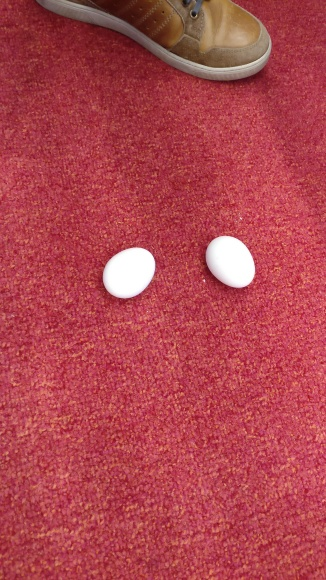egg: (102, 247, 157, 299), (205, 235, 256, 290)
